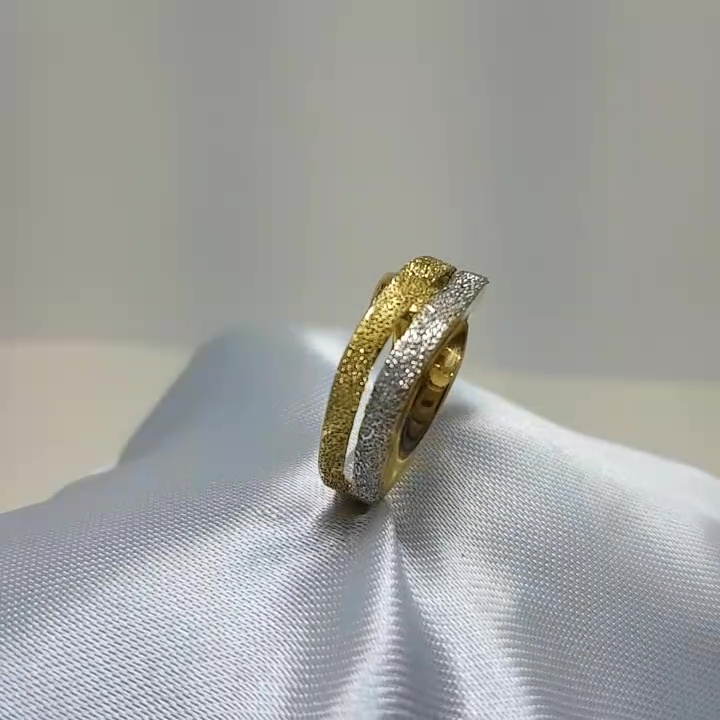Ring 5: (288, 249, 515, 531)
